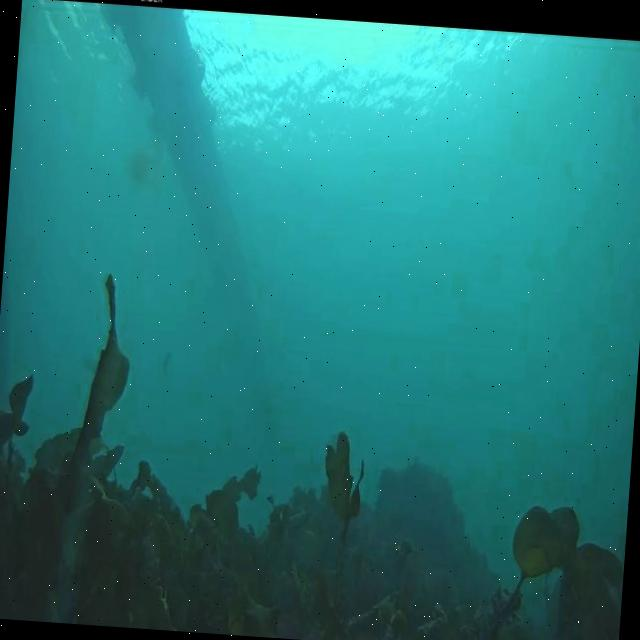fish: (160, 348, 172, 377)
